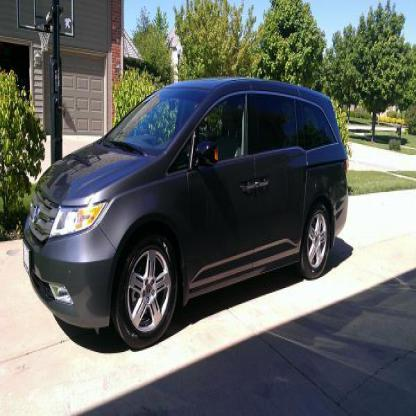Vehicle: (20, 76, 353, 354)
